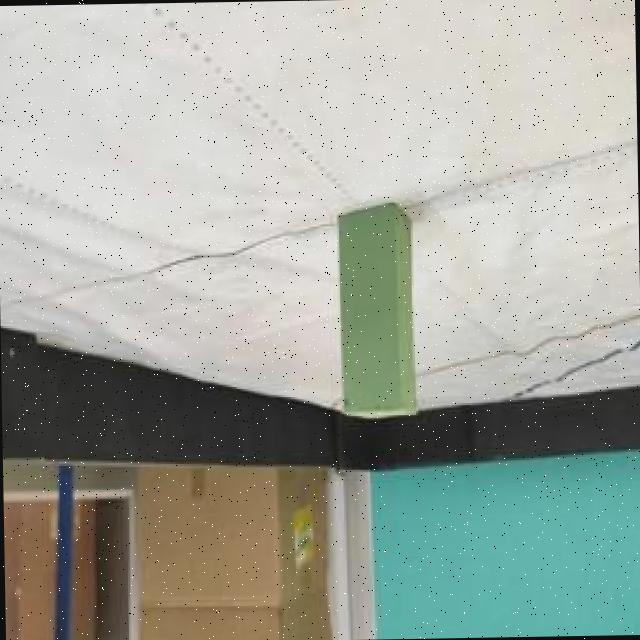greenbox: (332, 200, 422, 422)
